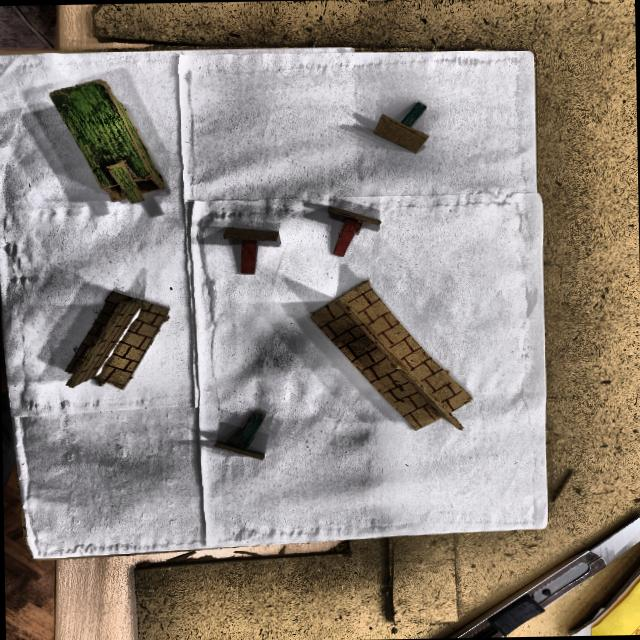Dead soldier -enemy-: (326, 206, 383, 259), (222, 226, 280, 277)
Dead soldier -frd-: (365, 100, 435, 156), (211, 409, 273, 464)
Tank: (48, 81, 167, 205)
Wall: (308, 280, 473, 433), (66, 292, 170, 392)
